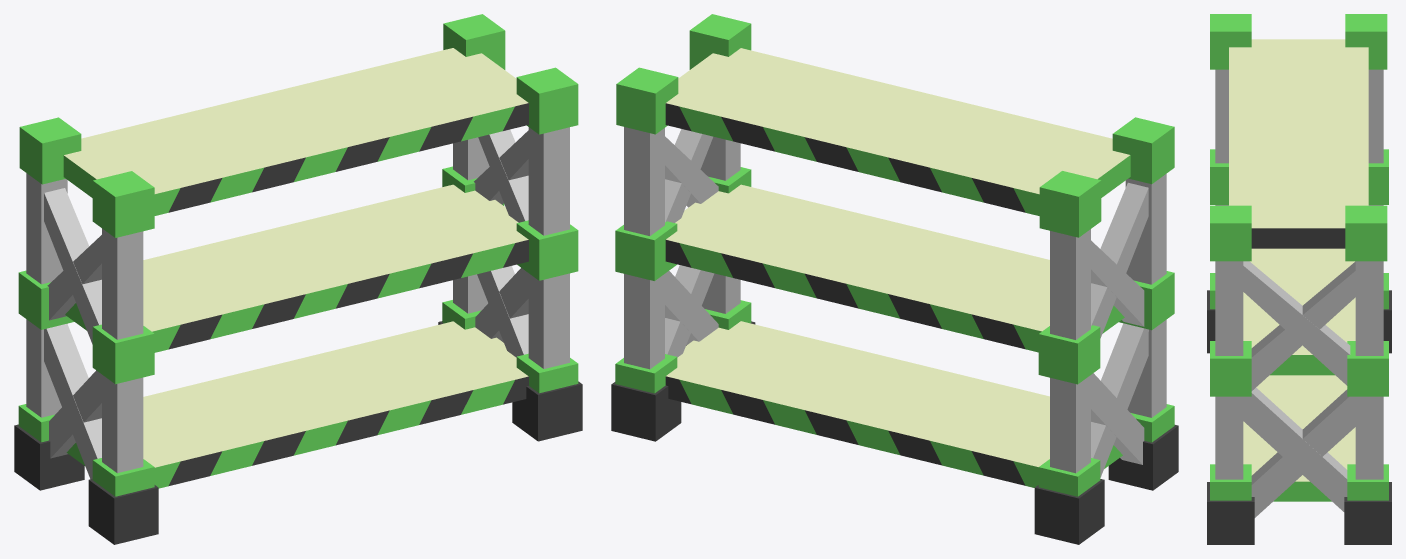
The model's file is Green_Shelf.fbx.
3 views of the same model, side by side, from view 1: azimuth 30°, elevation 25°; view 2: azimuth 150°, elevation 25°; view 3: azimuth 270°, elevation 25° (orthographic). The views are drawn at different scales.
Visible parts, largest first — view 1: Green_Shelf; view 2: Green_Shelf; view 3: Green_Shelf.
Part boxes in pixels (<box>): Green_Shelf: <box>14,14,582,544</box>; Green_Shelf: <box>611,14,1178,544</box>; Green_Shelf: <box>1207,14,1391,544</box>.
Size of the model in its own units: 179 by 127 by 66.16.
